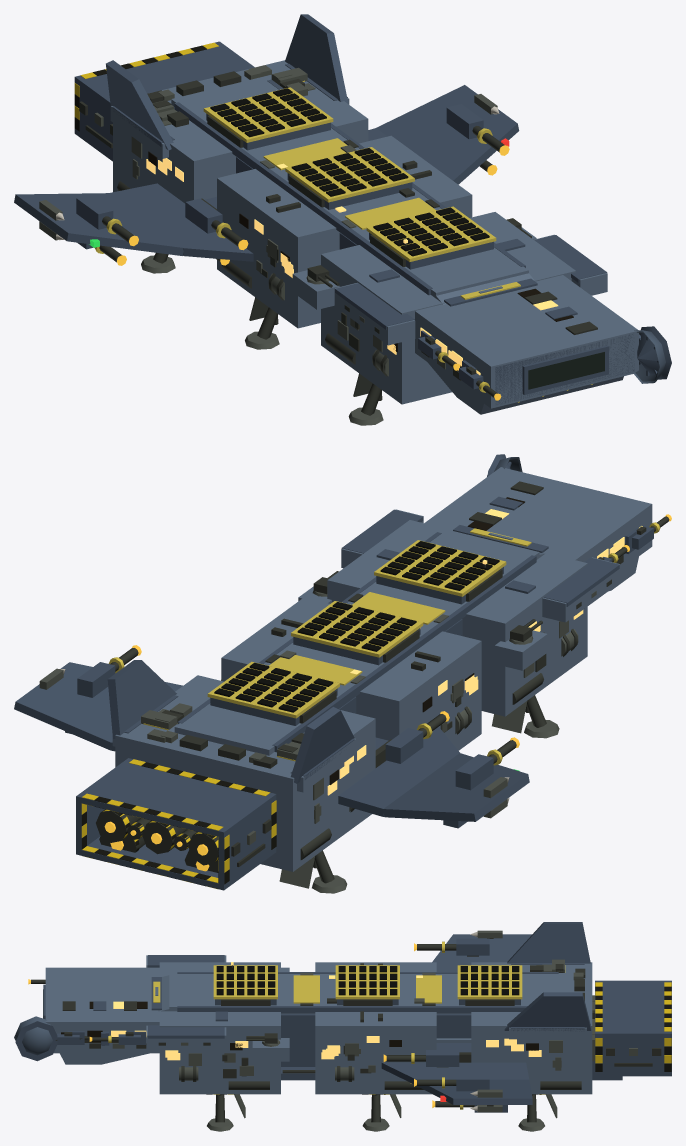
The model's file is navy-l.glb.
3 renders of one model, top to bottom at view 1: azimuth 30°, elevation 25°; view 2: azimuth 150°, elevation 25°; view 3: azimuth 270°, elevation 25°, orthographic. The views are drawn at different scales.
Parts seen in each view (by area): view 1: hullNose, hullSection1, hullMain, hullSection2, dorsalSpine, vlsRim (×3), wingOuterRight, wingOuterLeft, wingInnerLeft, shroudPlateTop, stabilizerFinR, dorsalSpineRailL (+16 smaller); view 2: hullSection2, hullMain, hullNose, hullSection1, dorsalSpine, shroudPlateTop, vlsRim (×3), wingOuterLeft, wingOuterRight, wingInnerLeft, stabilizerFinR, cannonHousing (×3) (+14 smaller); view 3: hullSection1, hullNose, hullMain, hullSection2, dorsalSpine, vlsRim (×3), shroudPlateTop, stabilizerFinL, stabilizerFinR, dorsalSpineRailR, wingInnerRight, shroudPlateRight (+22 smaller).
Boxes of the visible parts, box(x1,y1,x2,y2) form: hullNose: box(415, 275, 638, 408); hullSection1: box(217, 135, 472, 328); hullMain: box(321, 212, 575, 404); hullSection2: box(113, 60, 368, 203); dorsalSpine: box(171, 76, 528, 295); vlsRim (×3): box(203, 87, 496, 261); wingOuterRight: box(376, 85, 519, 184); wingOuterLeft: box(14, 193, 183, 255); wingInnerLeft: box(109, 183, 253, 261); shroudPlateTop: box(74, 41, 254, 108); stabilizerFinR: box(285, 14, 348, 103); dorsalSpineRailL: box(174, 102, 432, 295); hullSection2: box(115, 675, 375, 871); hullMain: box(327, 520, 587, 716); hullNose: box(424, 467, 652, 569); hullSection1: box(221, 597, 481, 750); dorsalSpine: box(174, 529, 539, 755); shroudPlateTop: box(76, 758, 276, 837); vlsRim (×3): box(207, 540, 506, 718); wingOuterLeft: box(383, 753, 529, 821); wingOuterRight: box(14, 662, 182, 749); wingInnerLeft: box(338, 726, 459, 816); stabilizerFinR: box(107, 660, 176, 738); cannonHousing (×3): box(77, 662, 493, 790); hullSection1: box(315, 962, 436, 1094); hullNose: box(45, 967, 159, 1053); hullMain: box(159, 962, 280, 1094); hullSection2: box(471, 962, 592, 1094); dorsalSpine: box(169, 973, 566, 1011); vlsRim (×3): box(213, 965, 522, 999); shroudPlateTop: box(595, 980, 671, 1037); stabilizerFinL: box(507, 922, 590, 963); stabilizerFinR: box(504, 992, 591, 1030); dorsalSpineRailR: box(177, 1006, 527, 1013); wingInnerRight: box(381, 1062, 529, 1084); shroudPlateRight: box(595, 1037, 671, 1071).
Bounding box in the file's own units: 5.97 × 2.32 × 10.03.
